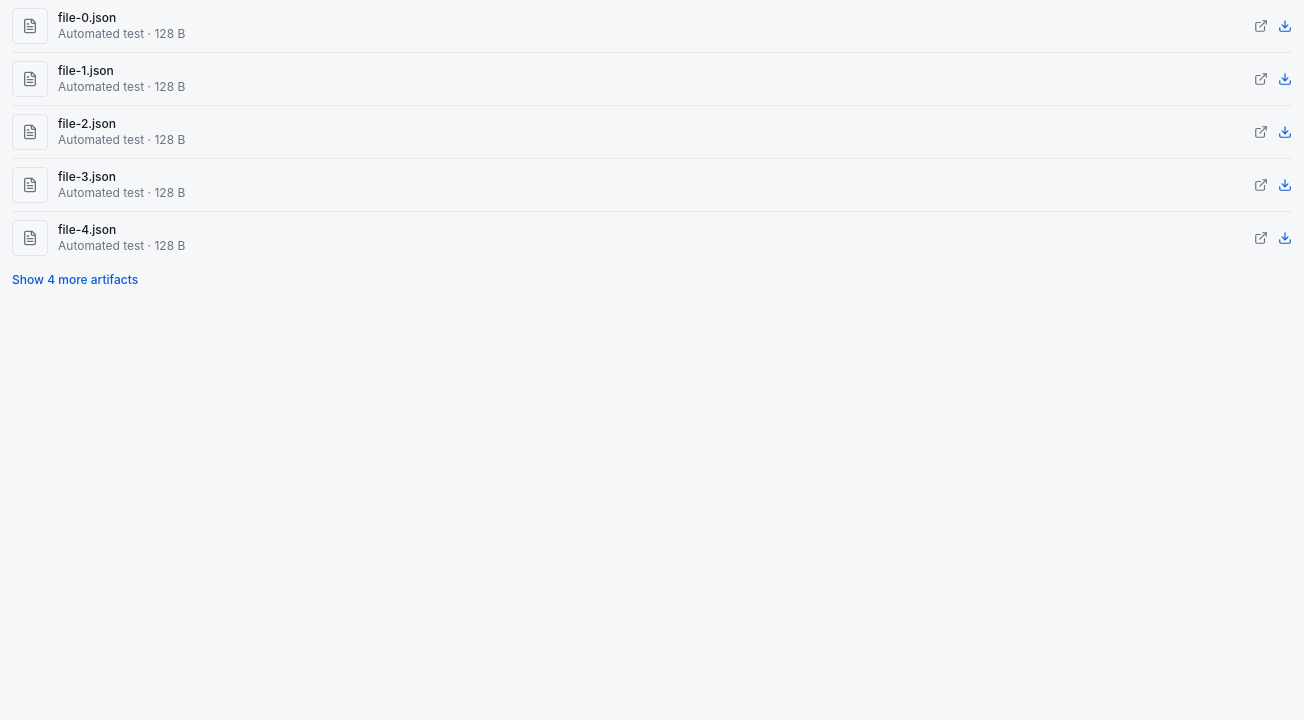
Scenario: the evidence rail › keeps manual evidence reachable behind the same control
This screenshot has width=1304, height=720.
Click the button "Show 4 more artifacts".
click(75, 280)  # box top-left (12, 272), bottom-right (138, 288)
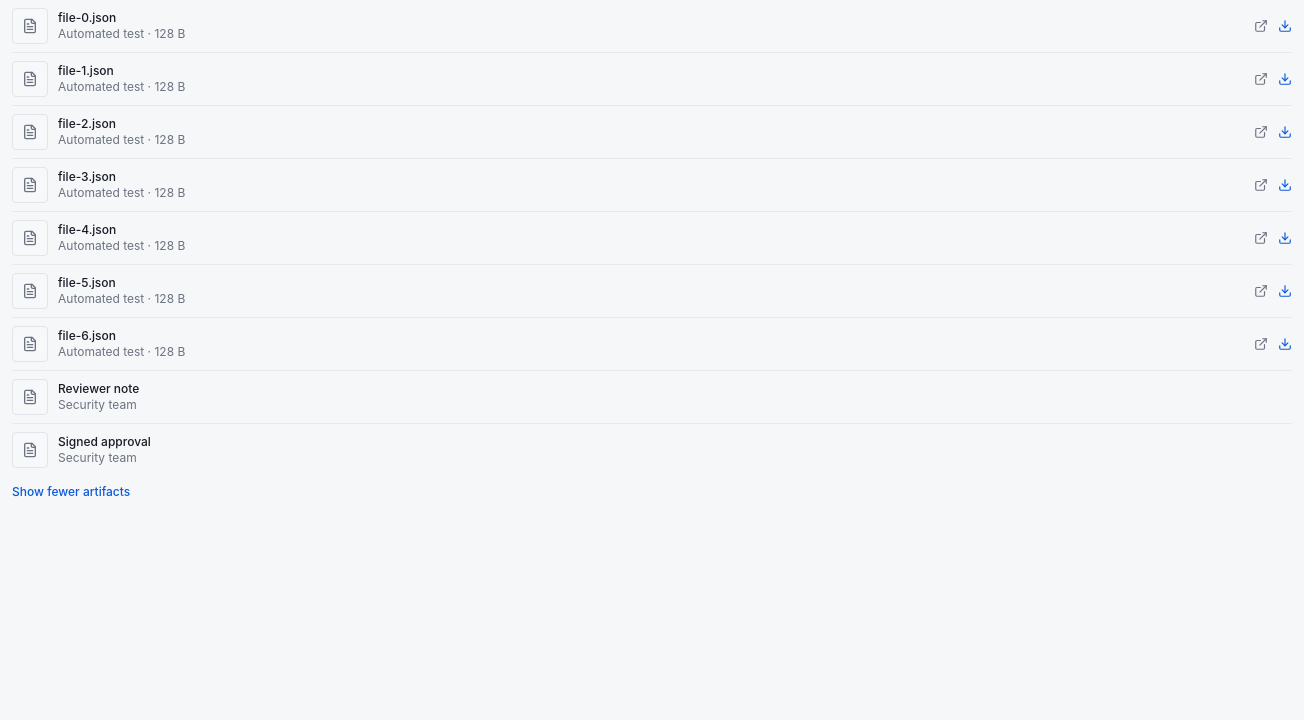
Now the text "Reviewer note" is shown, box top-left (58, 381), bottom-right (139, 396)
Now the text "Signed approval" is shown, box top-left (58, 434), bottom-right (151, 449)
